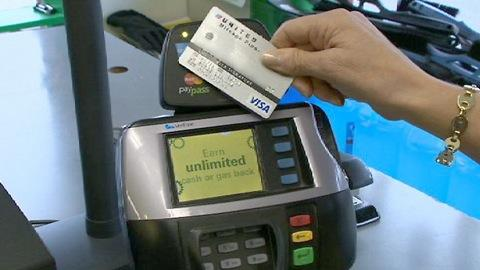tarjeta: (176, 5, 299, 120)
